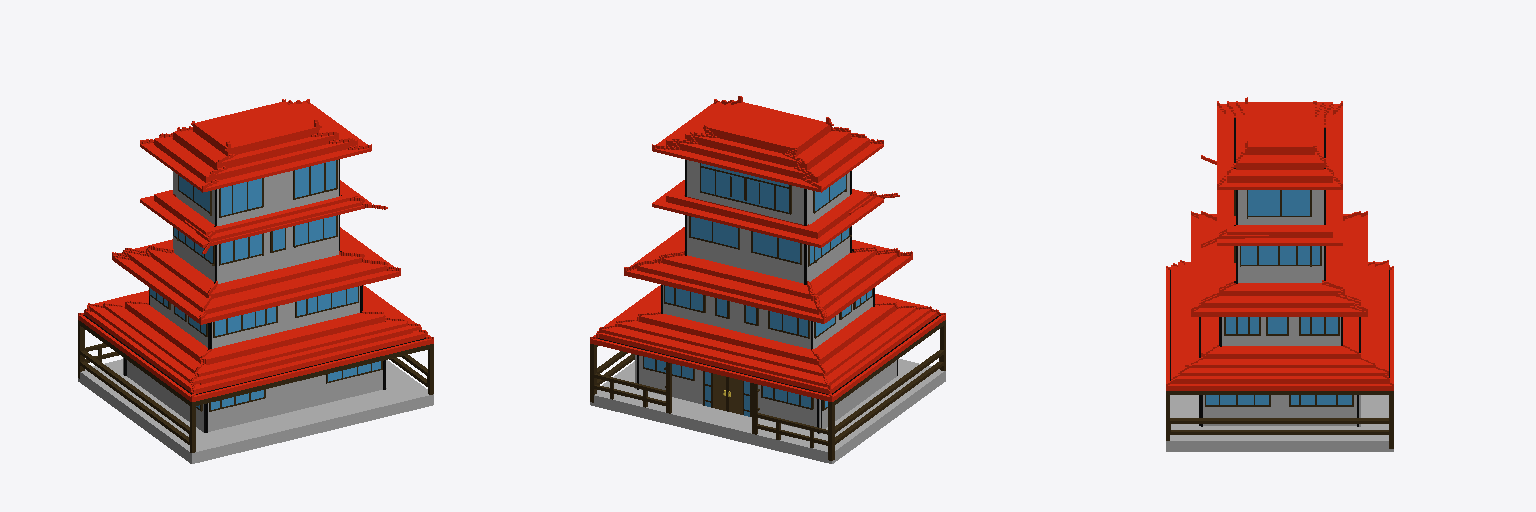
3 renders of one model, left to right at view 1: azimuth 30°, elevation 25°; view 2: azimuth 150°, elevation 25°; view 3: azimuth 270°, elevation 25°, orthographic.
Visible parts, largest first — view 1: Model; view 2: Model; view 3: Model.
Boxes of the visible parts, box(x1,y1,x2,y2) form: Model: box(78, 99, 433, 463); Model: box(590, 96, 945, 463); Model: box(1166, 97, 1393, 451).
Size of the model in its own units: 160 by 173 by 130.
Materials: 1 (1 with a texture image).